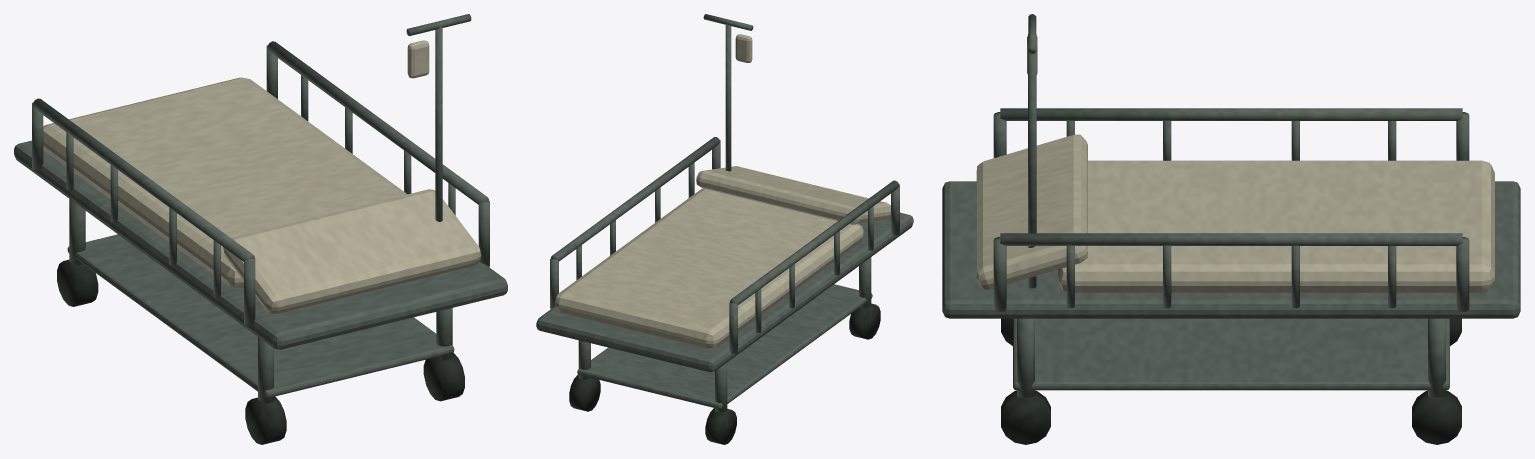
Rendered from MedicalGurney.fbx.
The picture shows the model from 3 angles, left to right: view 1: azimuth 30°, elevation 25°; view 2: azimuth 150°, elevation 25°; view 3: azimuth 270°, elevation 25°; orthographic projection. The views are drawn at different scales.
Parts seen in each view (by area): view 1: MedicalGurney; view 2: MedicalGurney; view 3: MedicalGurney.
Part boxes in pixels (left/top/right/bottom): MedicalGurney: left=14, top=14, right=507, bottom=444; MedicalGurney: left=536, top=14, right=913, bottom=444; MedicalGurney: left=942, top=14, right=1520, bottom=444.
Bounding box in the file's own units: 134 × 196 × 252.
Materials: 1 (1 with a texture image).
